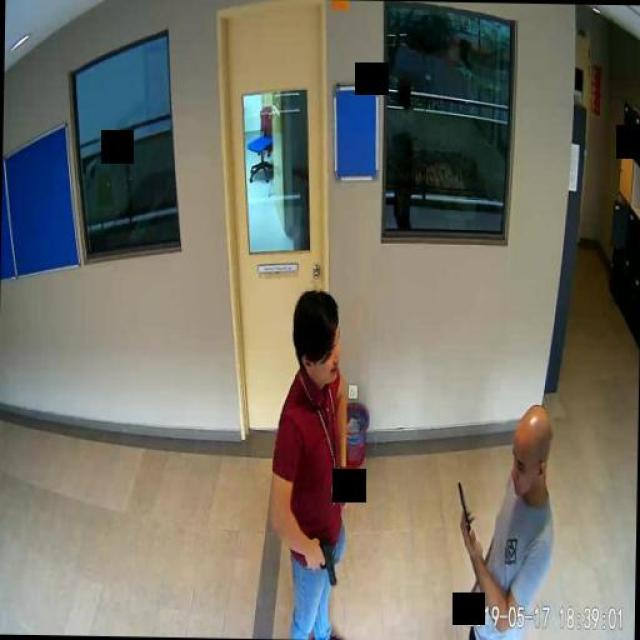gun: (309, 537, 336, 585)
